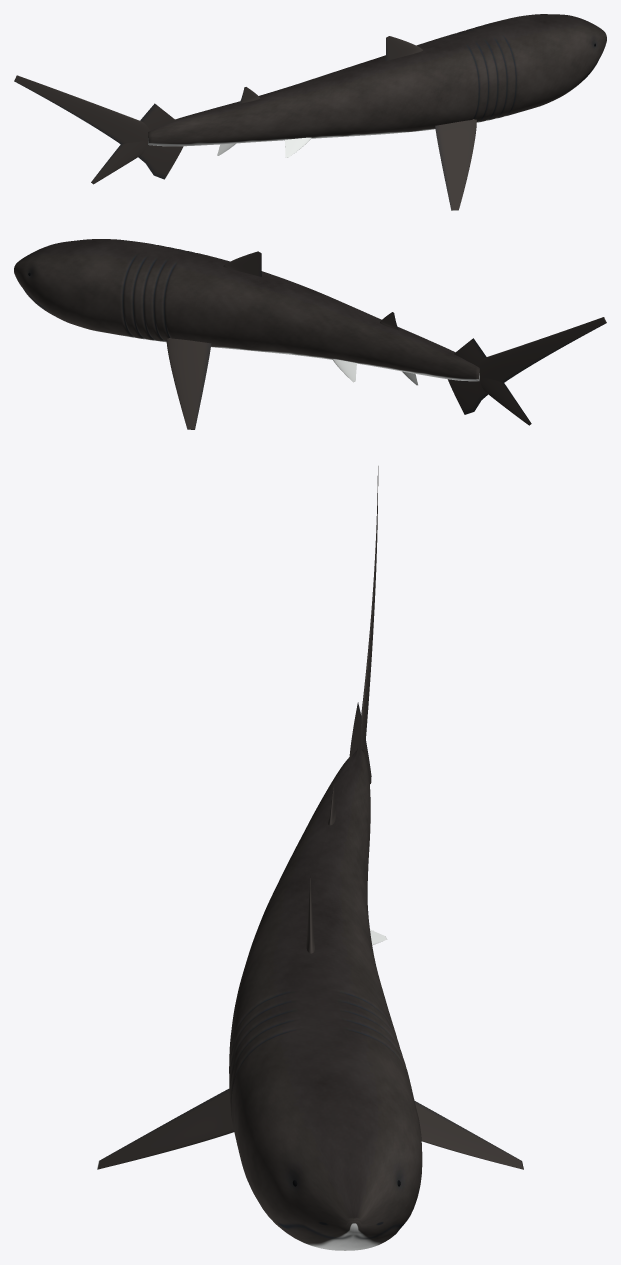
Rendered from megamouth_shark.glb.
The picture shows the model from 3 angles, top to bottom: view 1: azimuth 30°, elevation 25°; view 2: azimuth 150°, elevation 25°; view 3: azimuth 270°, elevation 25°; orthographic projection. The views are drawn at different scales.
Parts seen in each view (by area): view 1: MegamouthShark_Body, MegamouthShark_Fins; view 2: MegamouthShark_Body, MegamouthShark_Fins; view 3: MegamouthShark_Body, MegamouthShark_Fins.
Boxes of the visible parts, x1,y1,x2,y2 form: MegamouthShark_Body: (148, 14, 606, 146); MegamouthShark_Fins: (14, 36, 476, 210); MegamouthShark_Body: (14, 239, 479, 381); MegamouthShark_Fins: (166, 251, 606, 429); MegamouthShark_Body: (229, 749, 422, 1250); MegamouthShark_Fins: (97, 466, 523, 1169).
Size of the model in its own units: 5 by 1.42 by 1.58.
3 materials, 1 textured.
